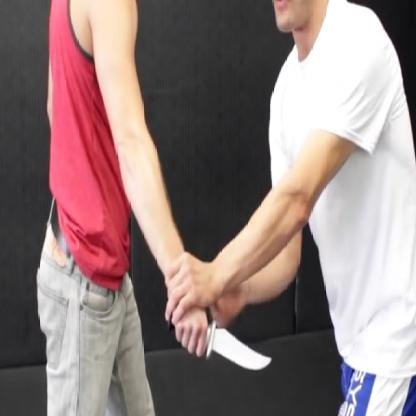knife: (166, 305, 278, 391)
